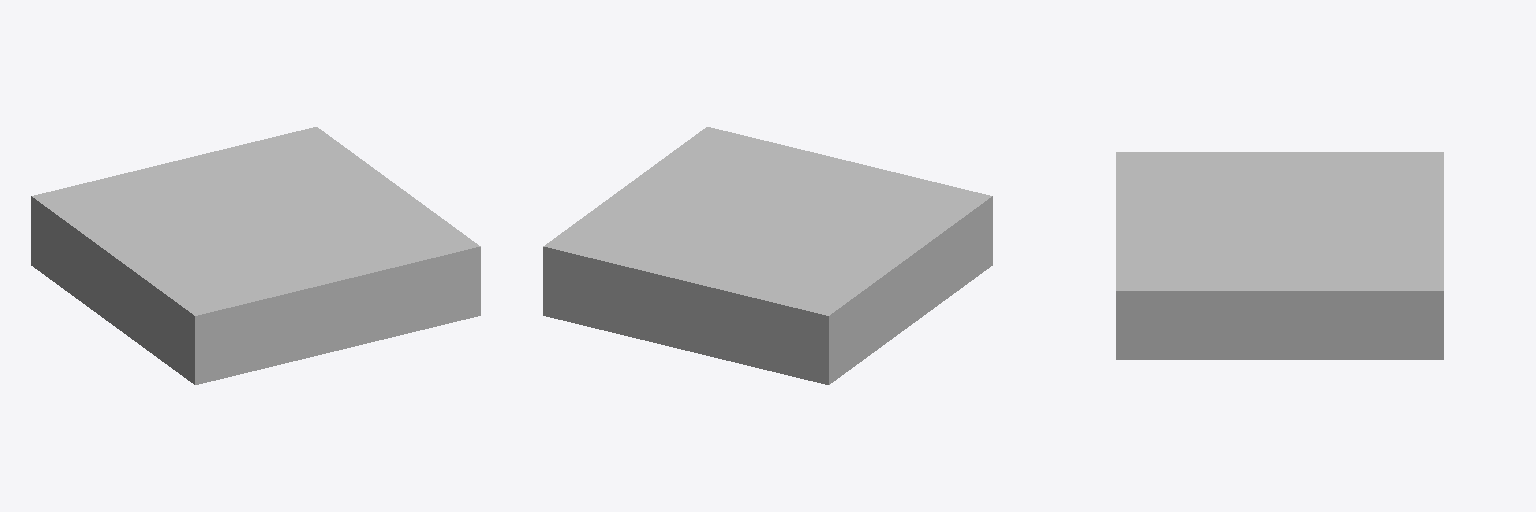
File: RainbowDesk.obj
3 renders of one model, left to right at view 1: azimuth 30°, elevation 25°; view 2: azimuth 150°, elevation 25°; view 3: azimuth 270°, elevation 25°, orthographic.
Visible parts, largest first — view 1: Box001; view 2: Box001; view 3: Box001.
Boxes of the visible parts, x1=… form: Box001: x1=31, y1=127, x2=480, y2=384; Box001: x1=543, y1=127, x2=992, y2=384; Box001: x1=1116, y1=152, x2=1443, y2=359.
Bounding box in the file's own units: 166 × 38.48 × 165.